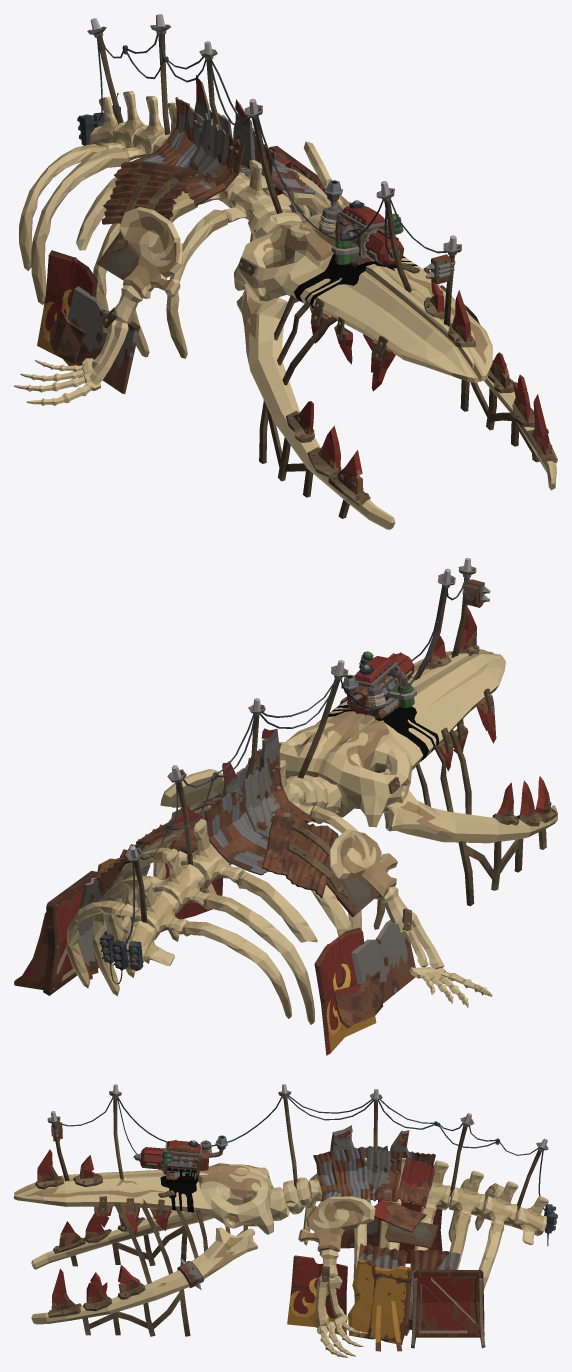
File: SM_Prop_Whale_Tunnel_01.fbx
3 views of the same model, one above another, from view 1: azimuth 30°, elevation 25°; view 2: azimuth 150°, elevation 25°; view 3: azimuth 270°, elevation 25° (orthographic). The views are drawn at different scales.
Visible parts, largest first — view 1: SM_Prop_Whale_Tunnel_01; view 2: SM_Prop_Whale_Tunnel_01; view 3: SM_Prop_Whale_Tunnel_01.
Part boxes in pixels (bbox=[...]): SM_Prop_Whale_Tunnel_01: bbox=[14, 14, 557, 529]; SM_Prop_Whale_Tunnel_01: bbox=[14, 558, 557, 1055]; SM_Prop_Whale_Tunnel_01: bbox=[14, 1084, 557, 1357].
Bounding box in the file's own units: 2460 × 1744 × 3987.
